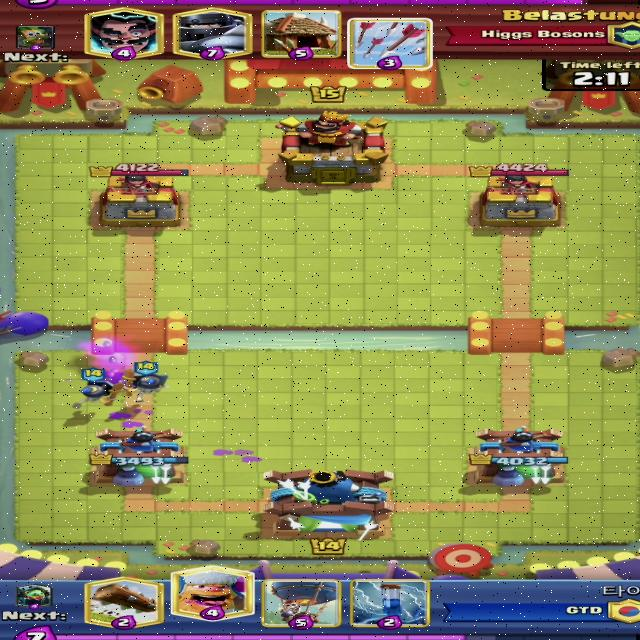Player-Guard: (72, 366, 126, 408), (119, 360, 170, 404)
